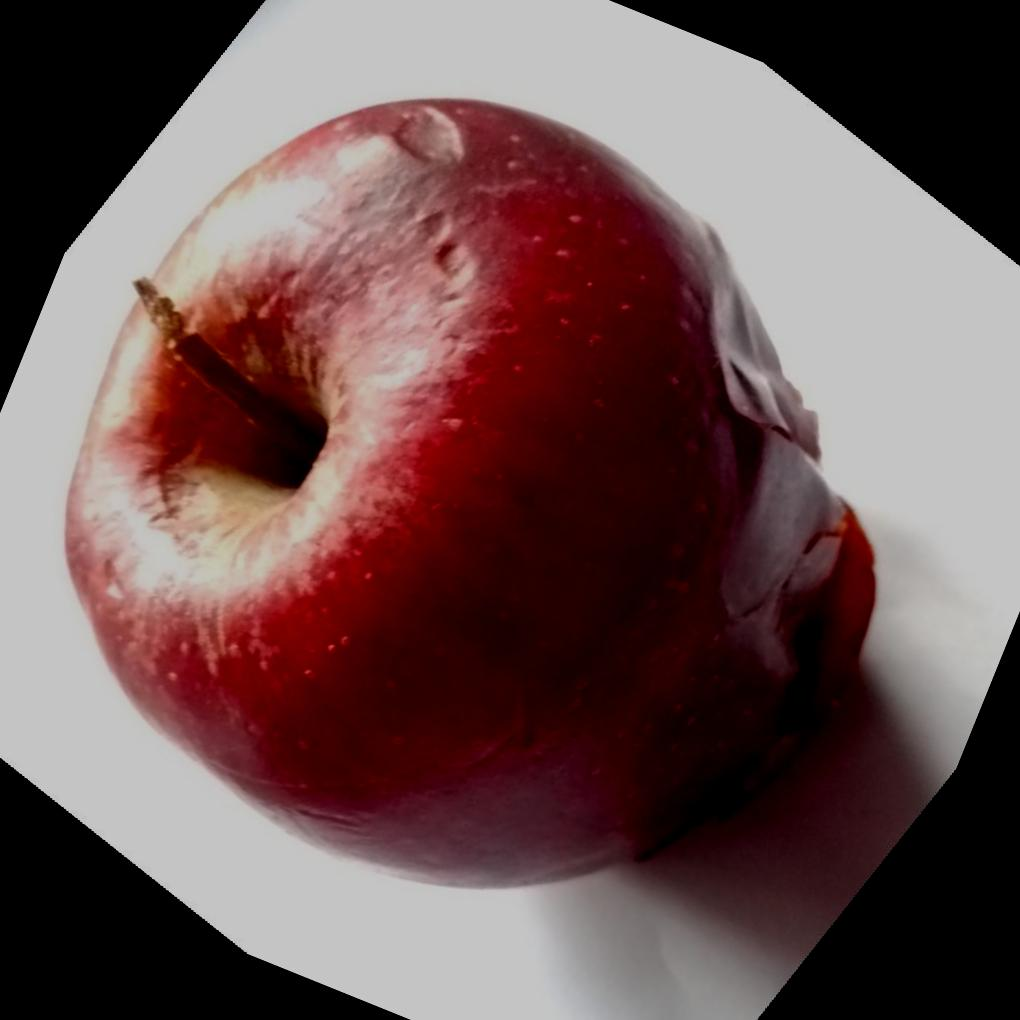FreshOrange: (58, 94, 877, 894)
